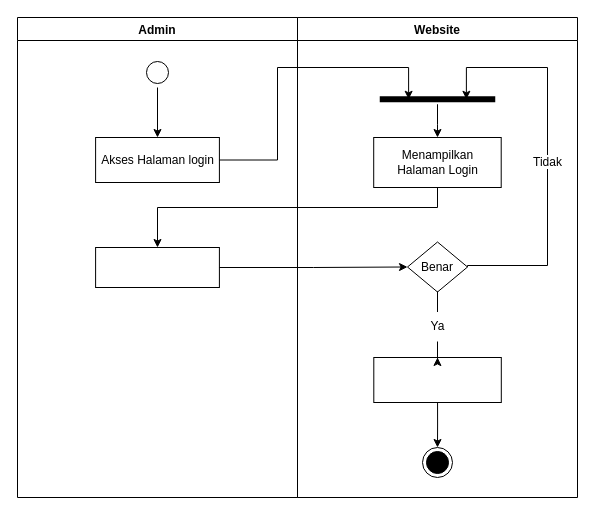
Some shapes in this 595 by 515 pixel diagram are drawn without their labels. The centre of each missing label's shape, as x and y in pixels:
"Input Username dan Password" goes at (157,267).
"Menampilkan dashboard data" goes at (437,379).
